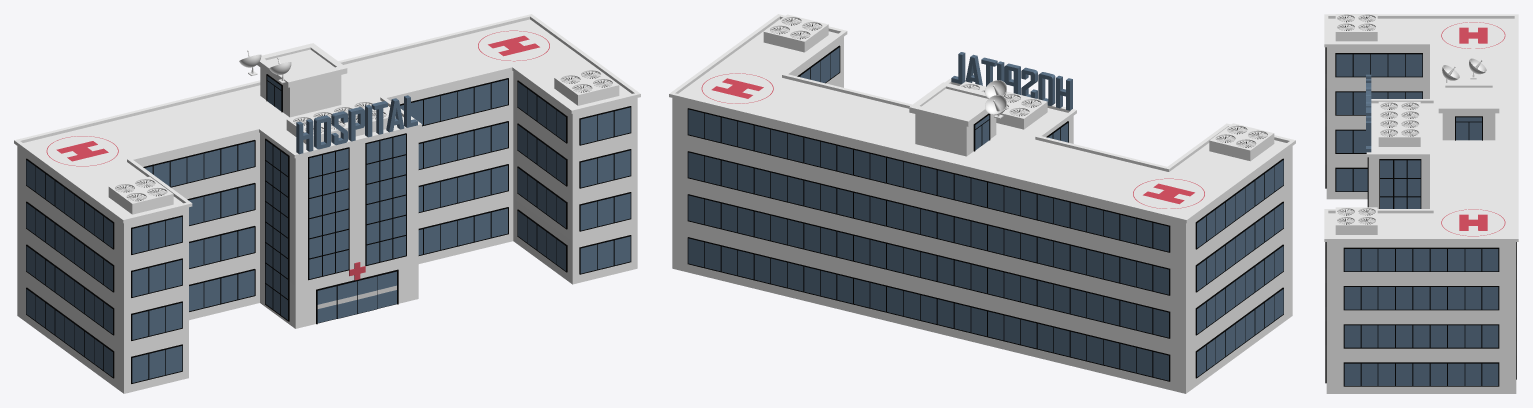
File: hospital.fbx
3 renders of one model, left to right at view 1: azimuth 30°, elevation 25°; view 2: azimuth 150°, elevation 25°; view 3: azimuth 270°, elevation 25°, orthographic. The views are drawn at different scales.
Visible parts, largest first — view 1: hospital1; view 2: hospital1; view 3: hospital1.
Part boxes in pixels (bbox=[...]): hospital1: bbox=[14, 14, 640, 393]; hospital1: bbox=[669, 14, 1295, 393]; hospital1: bbox=[1324, 14, 1518, 393].
Bounding box in the file's own units: 5040 × 2124 × 1840.
